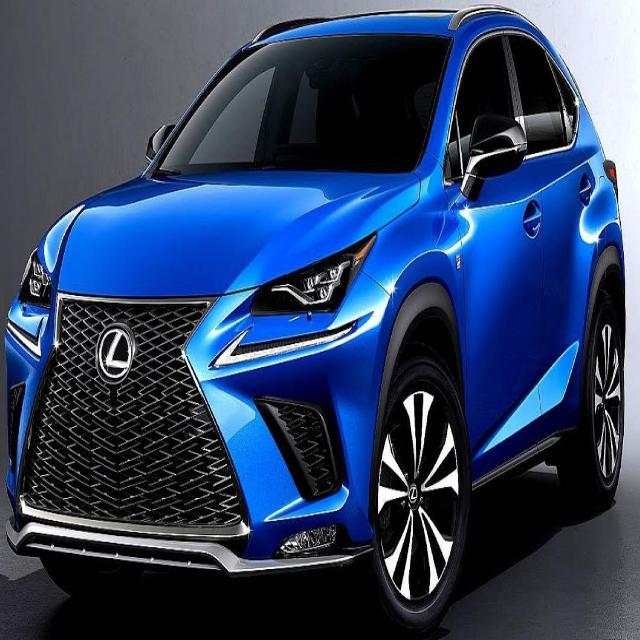blue: (4, 3, 624, 624)
